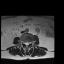CCS_normal: (26, 40, 27, 48)
LFS_normal: (29, 40, 31, 45)
LLS_normal: (27, 40, 29, 46)
RFS_normal: (22, 40, 24, 45)
RLS_normal: (24, 40, 26, 46)
